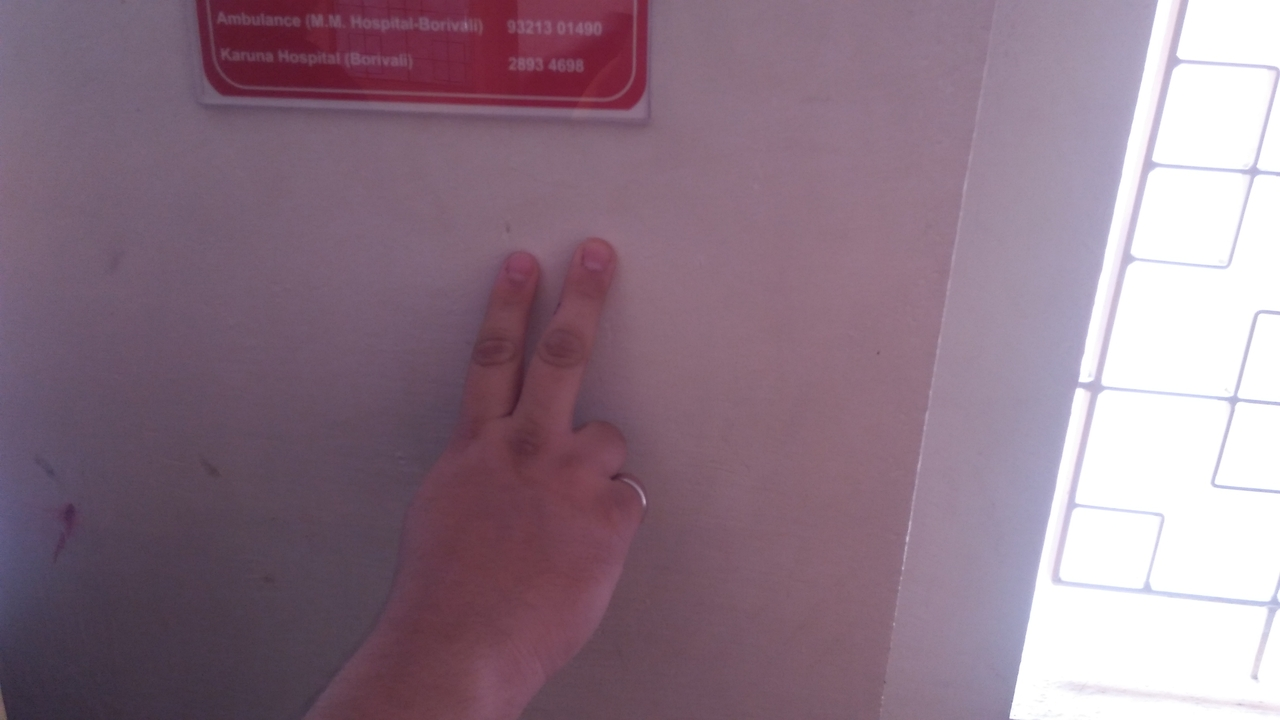fingertip: (556, 228, 620, 284), (486, 248, 546, 296)
